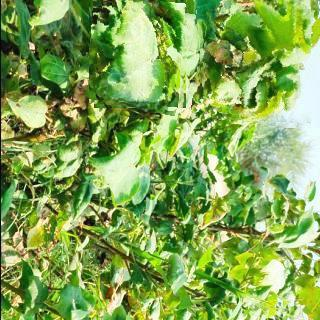curl: (194, 0, 310, 124), (88, 0, 190, 112)
